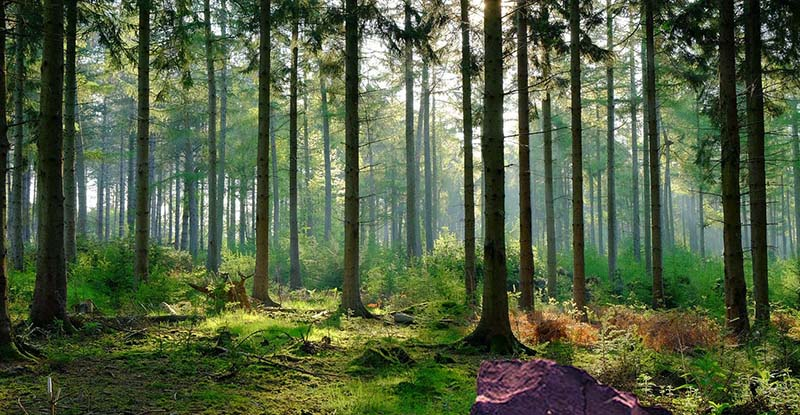Rocks: (462, 347, 674, 415)
